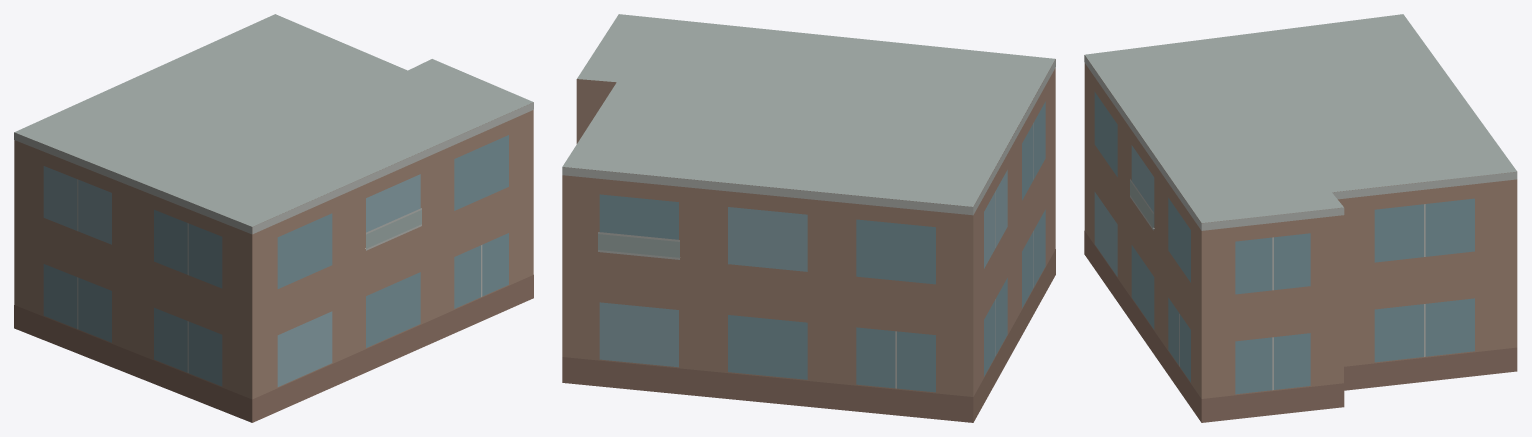
Rendered from survey-upis-32500764.glb.
3 views of the same model, side by side, from view 1: azimuth 30°, elevation 25°; view 2: azimuth 150°, elevation 25°; view 3: azimuth 270°, elevation 25° (orthographic). The views are drawn at different scales.
Visible parts, largest first — view 1: survey-upis-32500764.tmp; view 2: survey-upis-32500764.tmp; view 3: survey-upis-32500764.tmp.
Part boxes in pixels (x1,y1,x2,y2): survey-upis-32500764.tmp: (14,14,533,422); survey-upis-32500764.tmp: (562,14,1055,422); survey-upis-32500764.tmp: (1084,14,1517,422).
Size of the model in its own units: 14.16 by 6.3 by 12.39.
